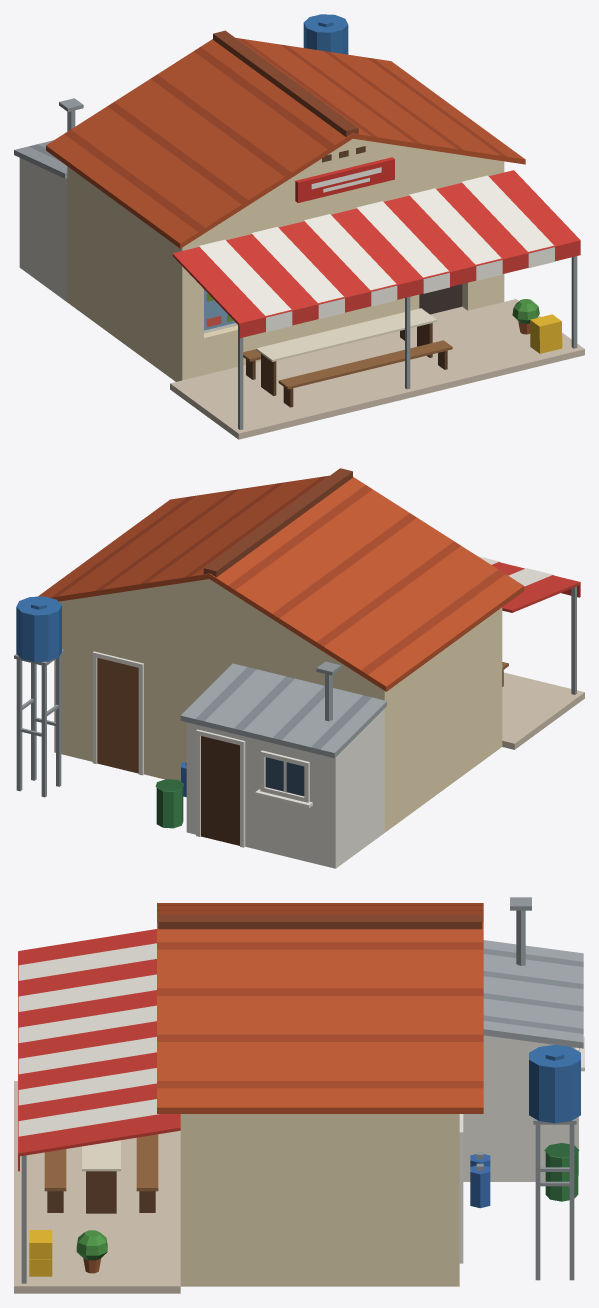
File: warung_01.glb
3 renders of one model, top to bottom at view 1: azimuth 30°, elevation 25°; view 2: azimuth 150°, elevation 25°; view 3: azimuth 270°, elevation 25°, orthographic. The views are drawn at different scales.
Parts seen in each view (by area): view 1: warung_01; view 2: warung_01; view 3: warung_01.
Part boxes in pixels (bbox=[...]): warung_01: bbox=[14, 14, 584, 439]; warung_01: bbox=[14, 468, 584, 868]; warung_01: bbox=[14, 897, 584, 1293].
Size of the model in its own units: 7.14 by 4.42 by 8.39.
